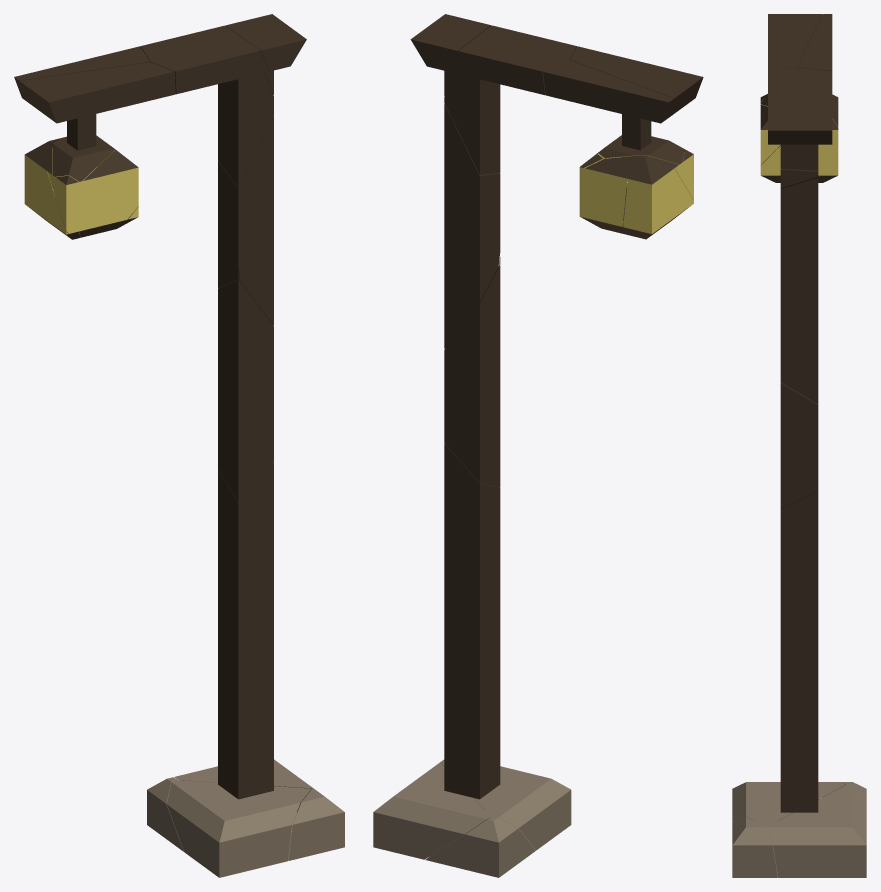
Rendered from StreetLight_Broken.fbx.
The picture shows the model from 3 angles, left to right: view 1: azimuth 30°, elevation 25°; view 2: azimuth 150°, elevation 25°; view 3: azimuth 270°, elevation 25°; orthographic projection. The views are drawn at different scales.
Visible parts, largest first — view 1: StreetLight.002_cell.006, StreetLight.002_cell.001, StreetLight.002_cell.007, StreetLight.001_cell, StreetLight.002_cell.003, StreetLight.002_cell.009, StreetLight_cell.001, StreetLight.001_cell.002, StreetLight.002_cell.014, StreetLight_cell.002, StreetLight.002_cell.005, StreetLight.001_cell.003 (+2 smaller); view 2: StreetLight.002_cell.006, StreetLight.002_cell.007, StreetLight.002_cell.001, StreetLight.002_cell.009, StreetLight.001_cell.001, StreetLight.002_cell.003, StreetLight.001_cell, StreetLight.002_cell.005, StreetLight.001_cell.003, StreetLight_cell.002, StreetLight.002_cell.014, StreetLight_cell.003 (+1 smaller); view 3: StreetLight.002_cell.006, StreetLight.002_cell.009, StreetLight.001_cell.001, StreetLight.002_cell.001, StreetLight.002_cell.014, StreetLight.002_cell.007, StreetLight.002_cell.003, StreetLight.001_cell.002, StreetLight.001_cell, StreetLight.002_cell.005, StreetLight_cell.003, StreetLight_cell (+1 smaller).
Boxes of the visible parts, x1,y1,x2,y2 form: StreetLight.002_cell.006: [218, 462, 273, 799]; StreetLight.002_cell.001: [218, 280, 273, 502]; StreetLight.002_cell.007: [140, 25, 273, 187]; StreetLight.001_cell: [166, 780, 311, 877]; StreetLight.002_cell.003: [19, 62, 175, 181]; StreetLight.002_cell.009: [218, 117, 273, 325]; StreetLight_cell.001: [47, 167, 138, 233]; StreetLight.001_cell.002: [288, 788, 344, 860]; StreetLight.002_cell.014: [225, 14, 306, 94]; StreetLight_cell.002: [24, 155, 67, 234]; StreetLight.002_cell.005: [14, 46, 149, 99]; StreetLight.001_cell.003: [147, 777, 183, 851]; StreetLight.002_cell.006: [444, 443, 500, 799]; StreetLight.002_cell.007: [444, 25, 576, 174]; StreetLight.002_cell.001: [444, 266, 500, 487]; StreetLight.002_cell.009: [444, 104, 500, 348]; StreetLight.001_cell.001: [373, 763, 490, 859]; StreetLight.002_cell.003: [570, 46, 703, 164]; StreetLight.001_cell: [442, 763, 571, 850]; StreetLight.002_cell.005: [543, 60, 673, 123]; StreetLight.001_cell.003: [425, 816, 535, 877]; StreetLight_cell.002: [623, 168, 693, 233]; StreetLight.002_cell.014: [410, 14, 490, 96]; StreetLight_cell.003: [579, 162, 627, 226]; StreetLight.002_cell.006: [780, 491, 818, 812]; StreetLight.002_cell.009: [780, 177, 818, 403]; StreetLight.001_cell.001: [768, 785, 866, 877]; StreetLight.002_cell.001: [780, 382, 818, 508]; StreetLight.002_cell.014: [768, 109, 832, 170]; StreetLight.002_cell.007: [768, 67, 832, 188]; StreetLight.002_cell.003: [760, 14, 822, 106]; StreetLight.001_cell.002: [732, 817, 777, 877]; StreetLight.001_cell: [732, 782, 844, 871]; StreetLight.002_cell.005: [798, 14, 832, 70]; StreetLight_cell.003: [818, 130, 838, 175]; StreetLight_cell: [760, 146, 780, 175].
Bounding box in the file's own units: 1.15 × 3.16 × 0.5201.
